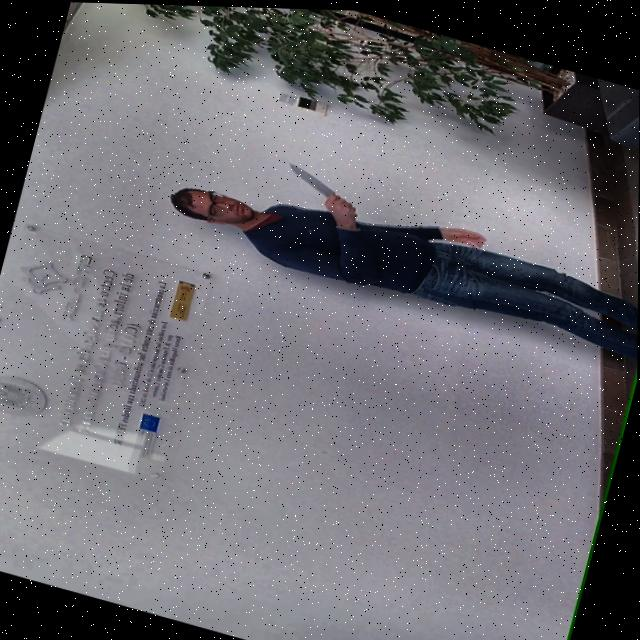knife: (278, 155, 344, 199)
